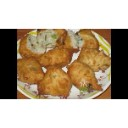bonda: (70, 59, 100, 91), (40, 68, 71, 97), (39, 46, 74, 65), (18, 58, 43, 81)
